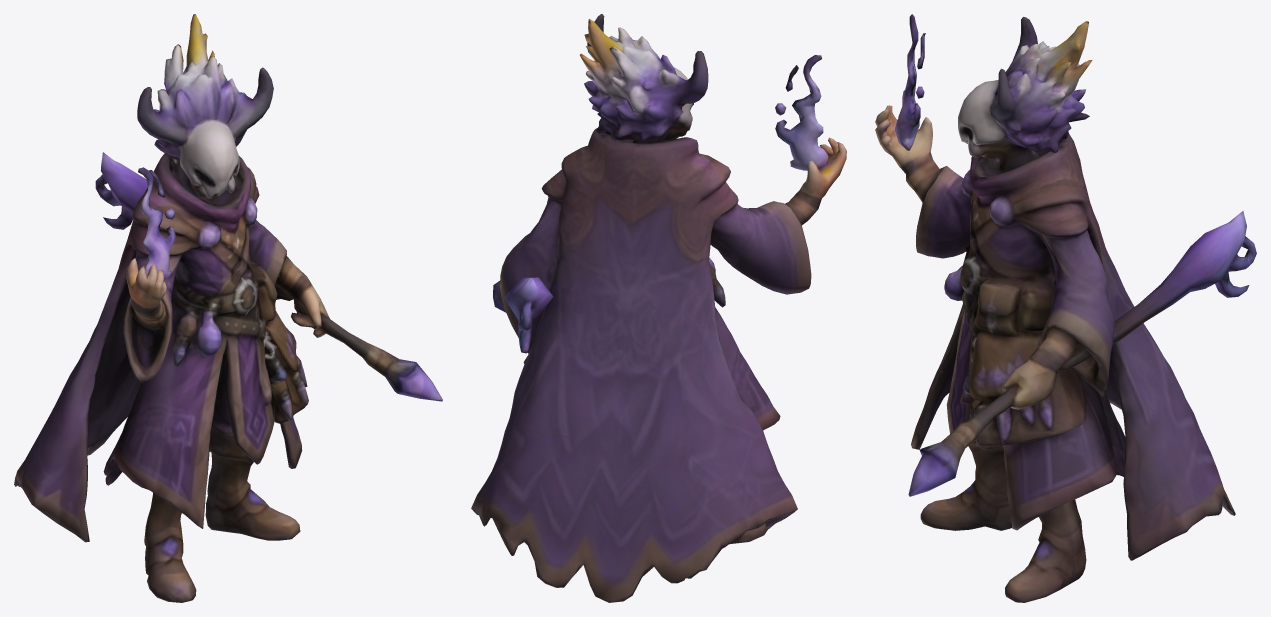
The model's file is npc_docter.glb.
3 views of the same model, side by side, from view 1: azimuth 30°, elevation 25°; view 2: azimuth 150°, elevation 25°; view 3: azimuth 270°, elevation 25° (orthographic). The views are drawn at different scales.
Parts seen in each view (by area): view 1: Mesh_0; view 2: Mesh_0; view 3: Mesh_0.
Part boxes in pixels (x1,y1,x2,y2): Mesh_0: [14, 14, 442, 602]; Mesh_0: [471, 14, 846, 602]; Mesh_0: [875, 14, 1256, 602].
Bounding box in the file's own units: 1.41 × 2 × 1.27.
Materials: 1 (1 with a texture image).
